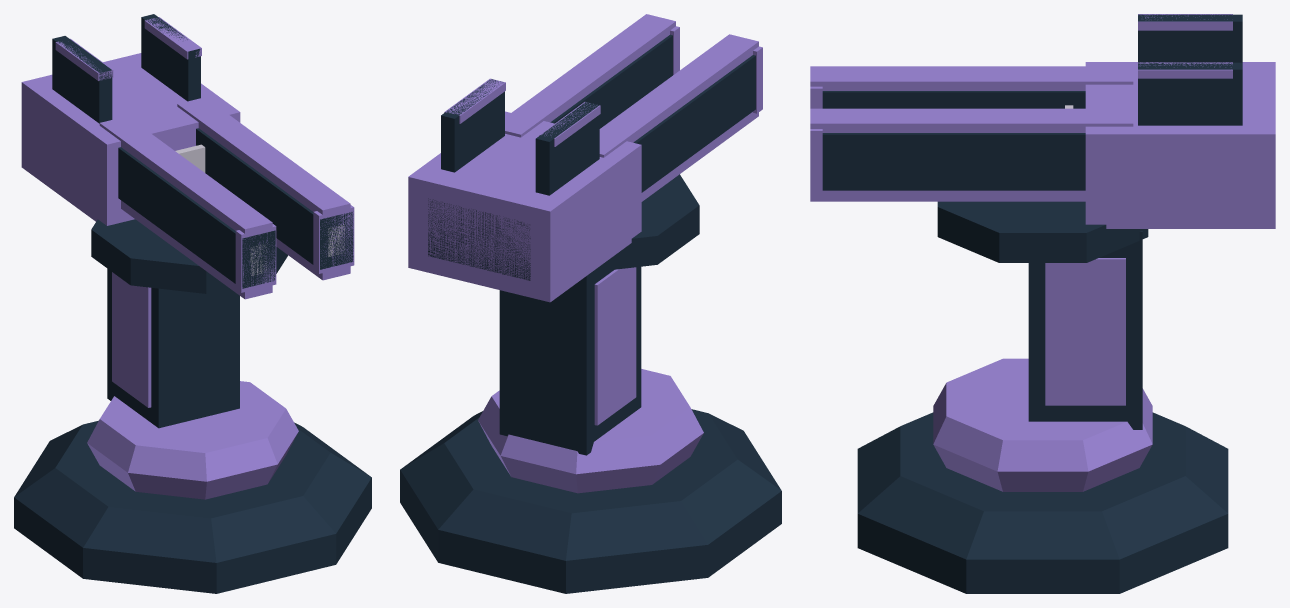
File: turret_rail.glb
3 views of the same model, side by side, from view 1: azimuth 30°, elevation 25°; view 2: azimuth 150°, elevation 25°; view 3: azimuth 270°, elevation 25° (orthographic). The views are drawn at different scales.
Parts seen in each view (by area): view 1: turret_rail; view 2: turret_rail; view 3: turret_rail.
Part boxes in pixels (bbox=[...]): turret_rail: bbox=[14, 14, 371, 593]; turret_rail: bbox=[400, 14, 781, 593]; turret_rail: bbox=[810, 14, 1275, 593].
Bounding box in the file's own units: 0.78 × 1.1 × 0.98.
